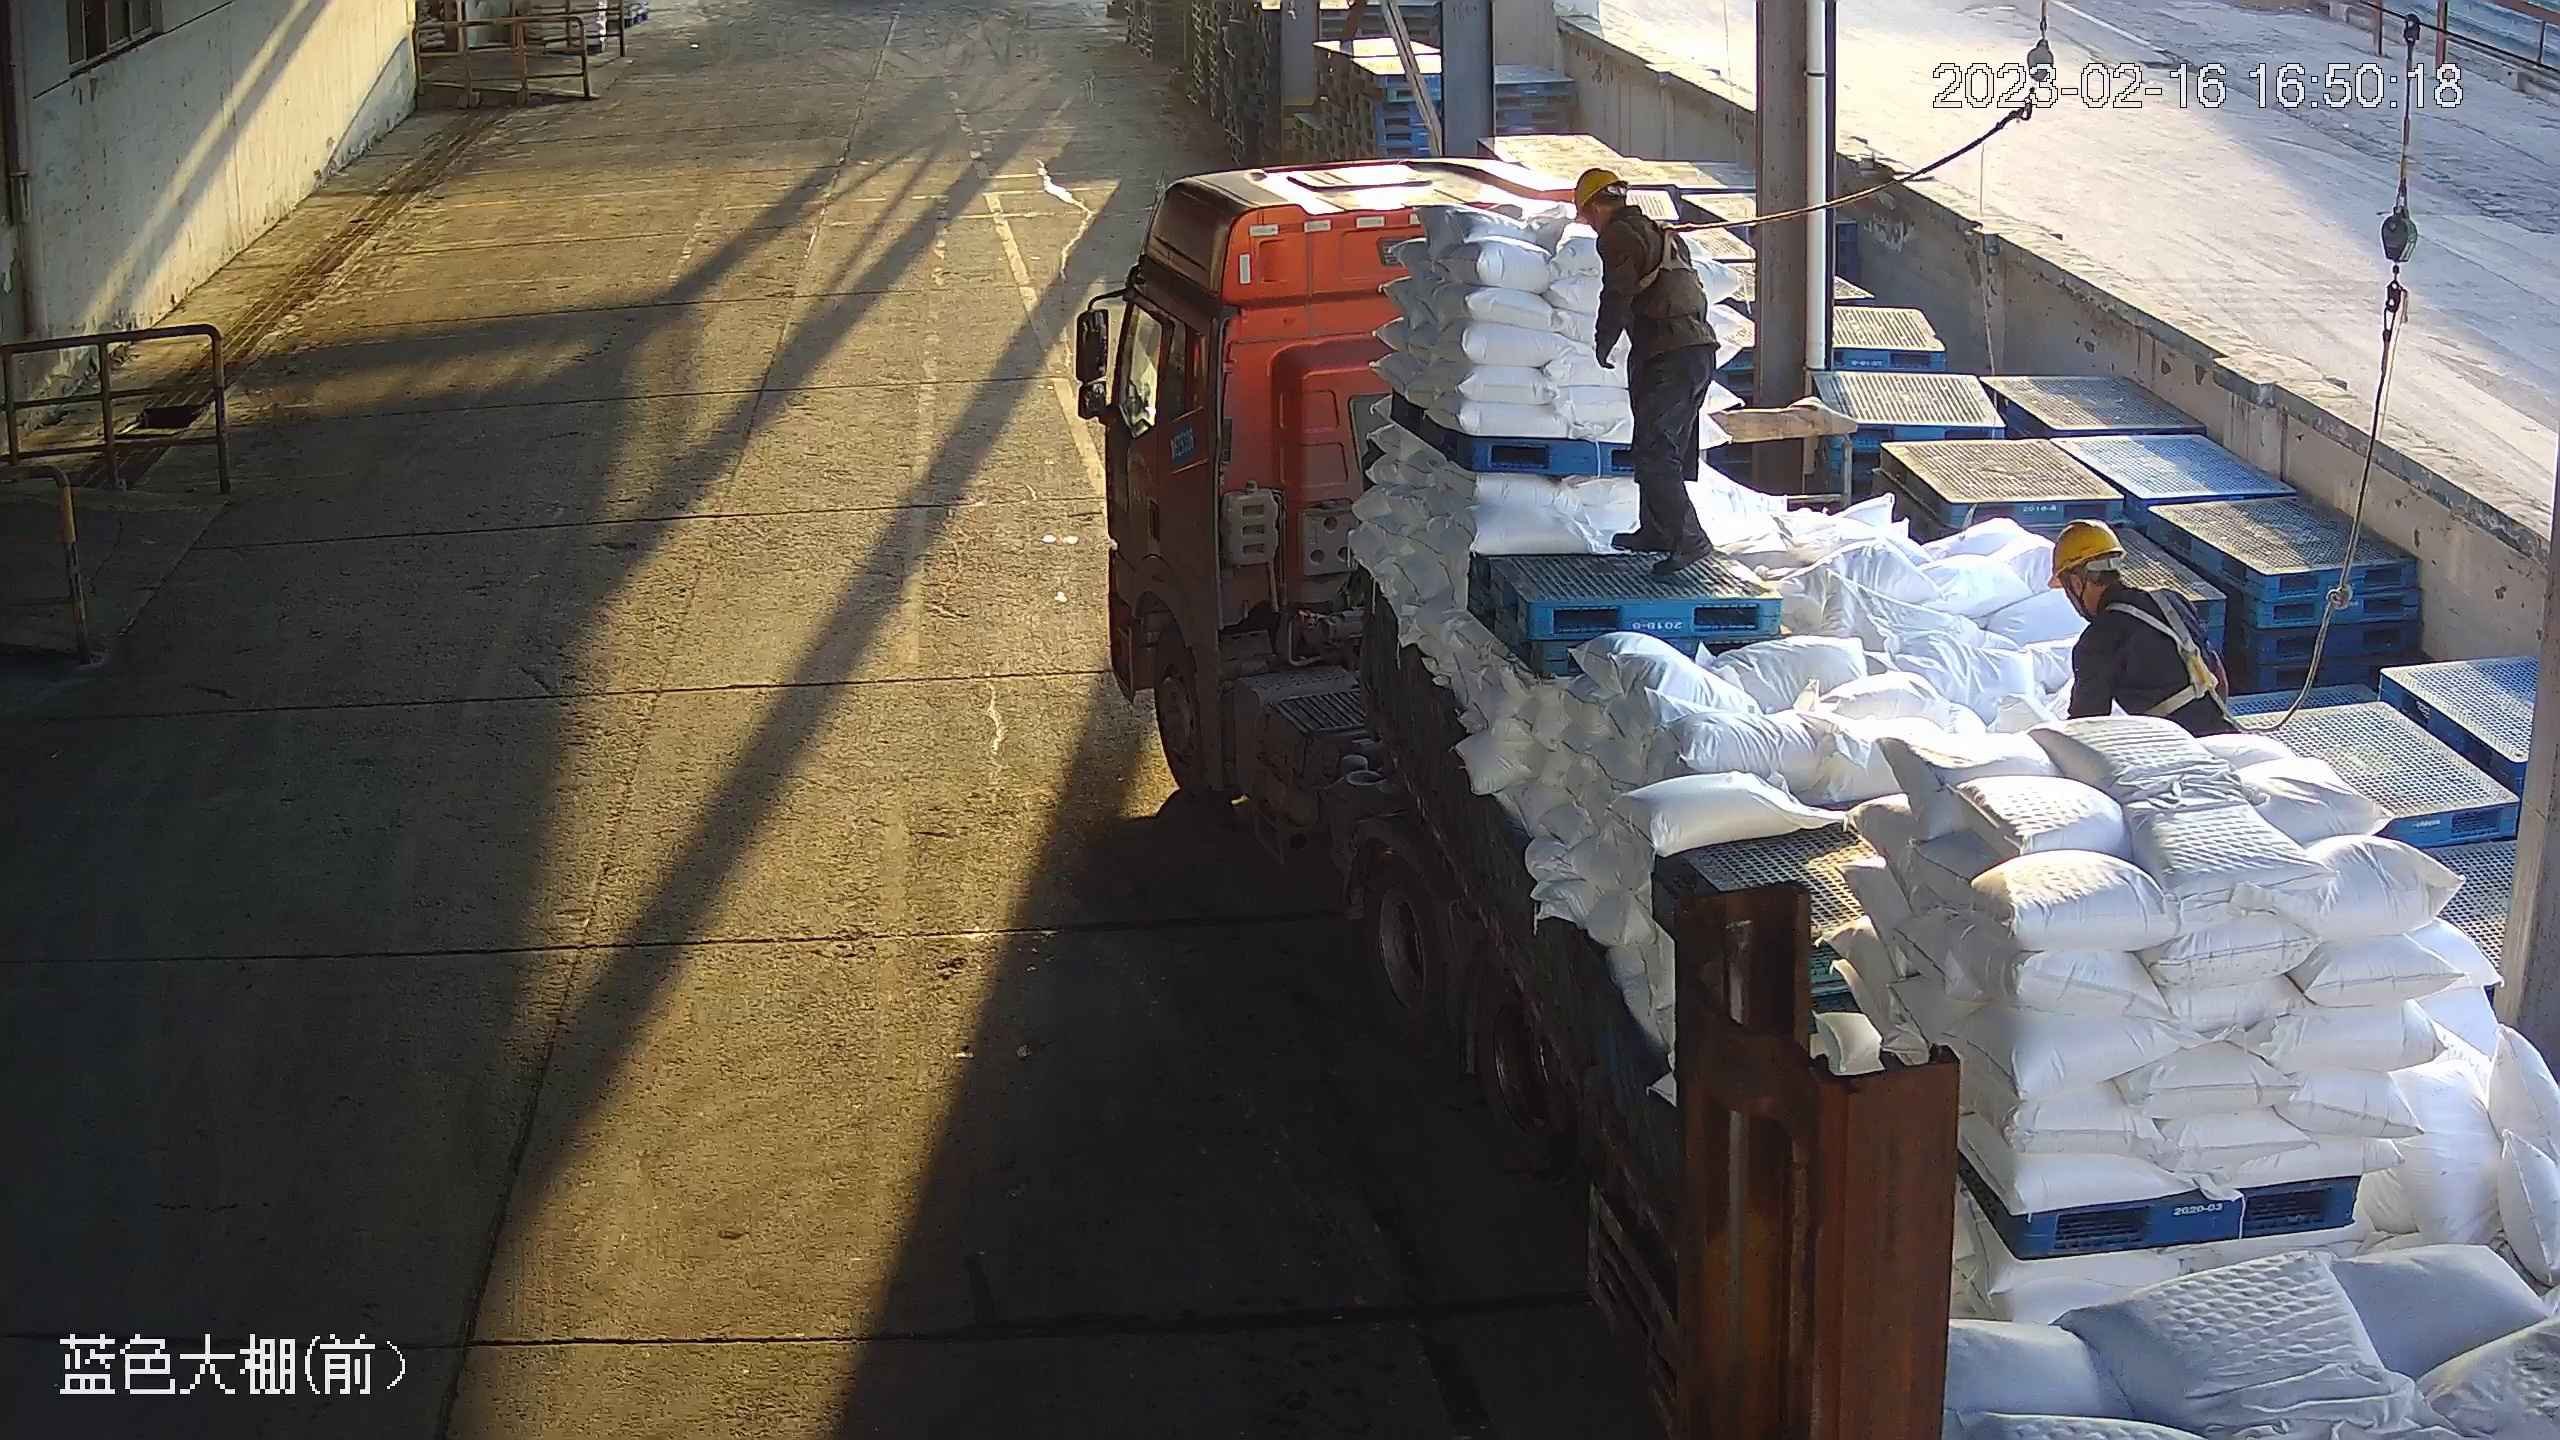belt: (2105, 586, 2226, 717), (1631, 220, 1705, 300)
head: (2049, 519, 2201, 665), (1574, 168, 1665, 258)
helmet: (2049, 519, 2129, 589), (1573, 167, 1630, 219)
people: (1574, 168, 1722, 577)
truck: (1072, 157, 2560, 1440)
